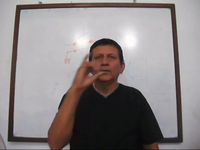oi: (71, 53, 104, 89)
